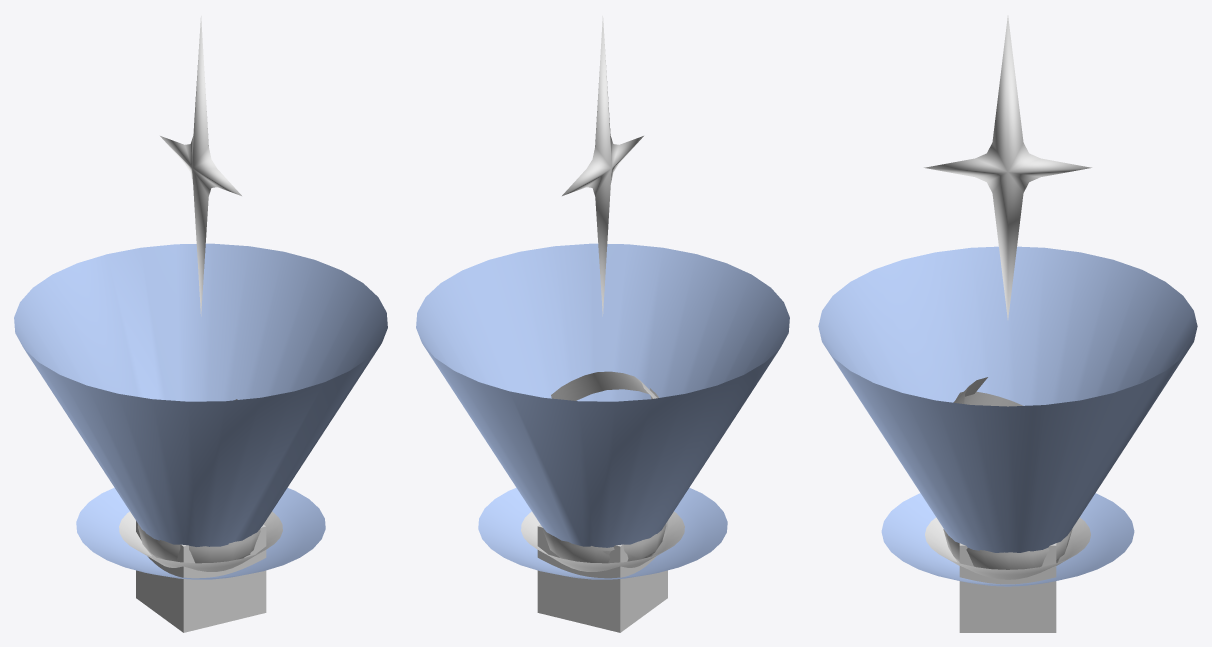
Rendered from Wind_Fury_shockwave1.fbx.
The picture shows the model from 3 angles, left to right: view 1: azimuth 30°, elevation 25°; view 2: azimuth 150°, elevation 25°; view 3: azimuth 270°, elevation 25°; orthographic projection.
Visible parts, largest first — view 1: big_air, Cube, ground_air, Plane, A064_buff_wind, shockwave_bottom; view 2: big_air, Cube, ground_air, Plane, shockwave_bottom, A064_buff_wind, round_air3; view 3: big_air, Plane, ground_air, Cube, shockwave_bottom, A064_buff_wind, round_air1.
Boxes of the visible parts, x1,y1,x2,y2 form: big_air: (14,243,387,546); Cube: (136,521,266,632); ground_air: (76,487,325,579); Plane: (160,16,241,316); A064_buff_wind: (138,524,260,563); shockwave_bottom: (119,511,282,571); big_air: (416,243,789,547); Cube: (537,521,667,632); ground_air: (478,487,727,579); Plane: (562,16,643,316); shockwave_bottom: (521,511,684,571); A064_buff_wind: (543,524,666,563); round_air3: (551,371,657,400); big_air: (818,246,1197,552); Plane: (924,15,1091,319); ground_air: (881,493,1134,586); Cube: (959,543,1056,632); shockwave_bottom: (925,517,1090,579); A064_buff_wind: (943,529,1072,569); round_air1: (956,391,1023,406).
Size of the model in its own units: 786 by 1369 by 786.
